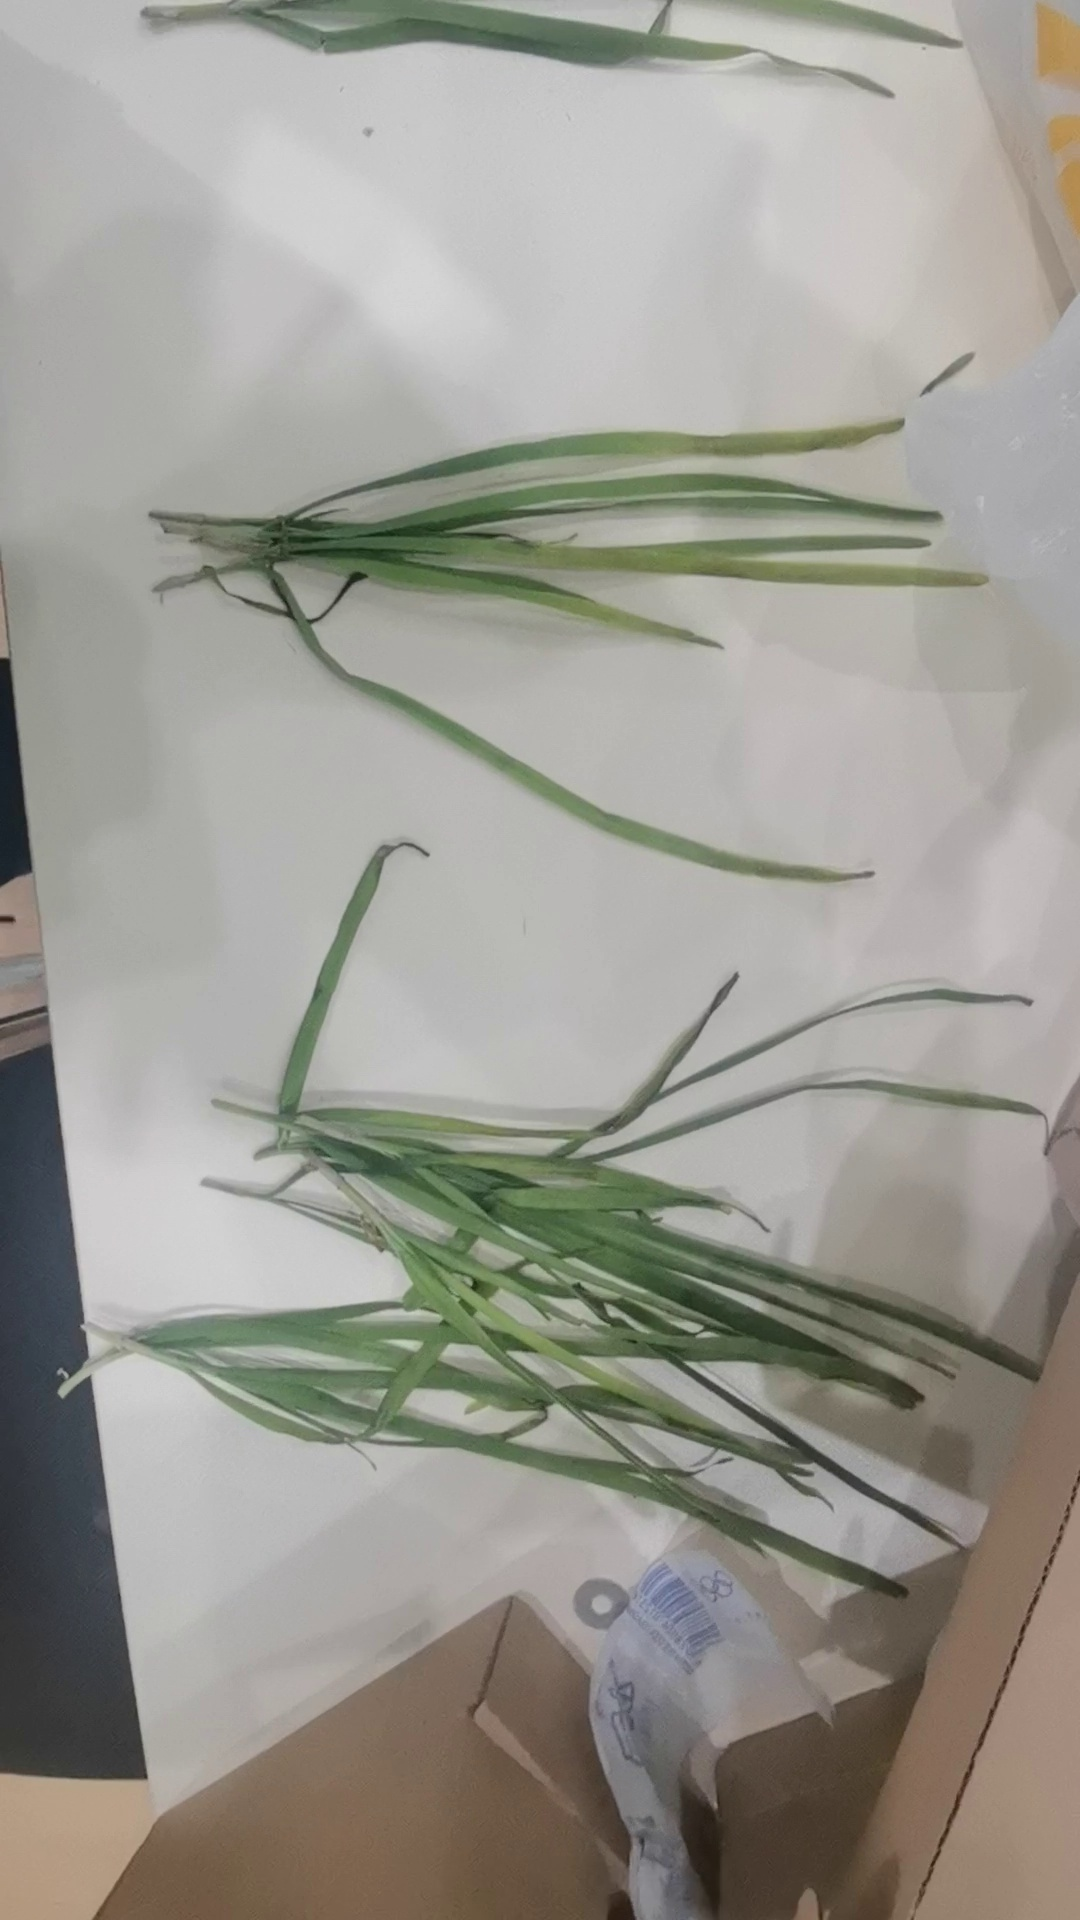chives: (57, 964, 985, 1560), (128, 351, 989, 878), (149, 7, 1006, 115)
